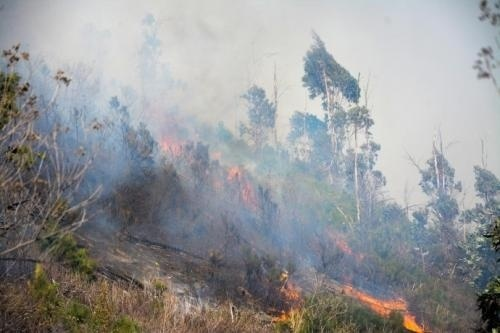fire: (295, 231, 430, 333), (271, 267, 304, 324)
